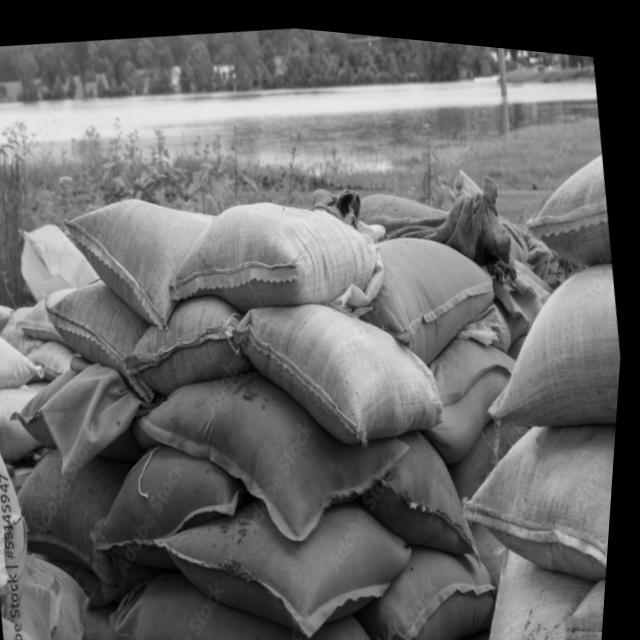sack: (127, 334, 433, 568), (151, 464, 434, 640), (226, 270, 458, 459), (159, 169, 398, 329), (452, 393, 621, 589), (57, 176, 241, 346), (109, 535, 394, 640), (470, 240, 629, 428), (7, 431, 160, 624), (83, 422, 265, 582), (352, 212, 511, 371), (352, 407, 496, 571), (39, 263, 169, 419), (352, 520, 517, 640), (412, 315, 537, 464), (116, 277, 260, 405), (477, 523, 614, 640)
